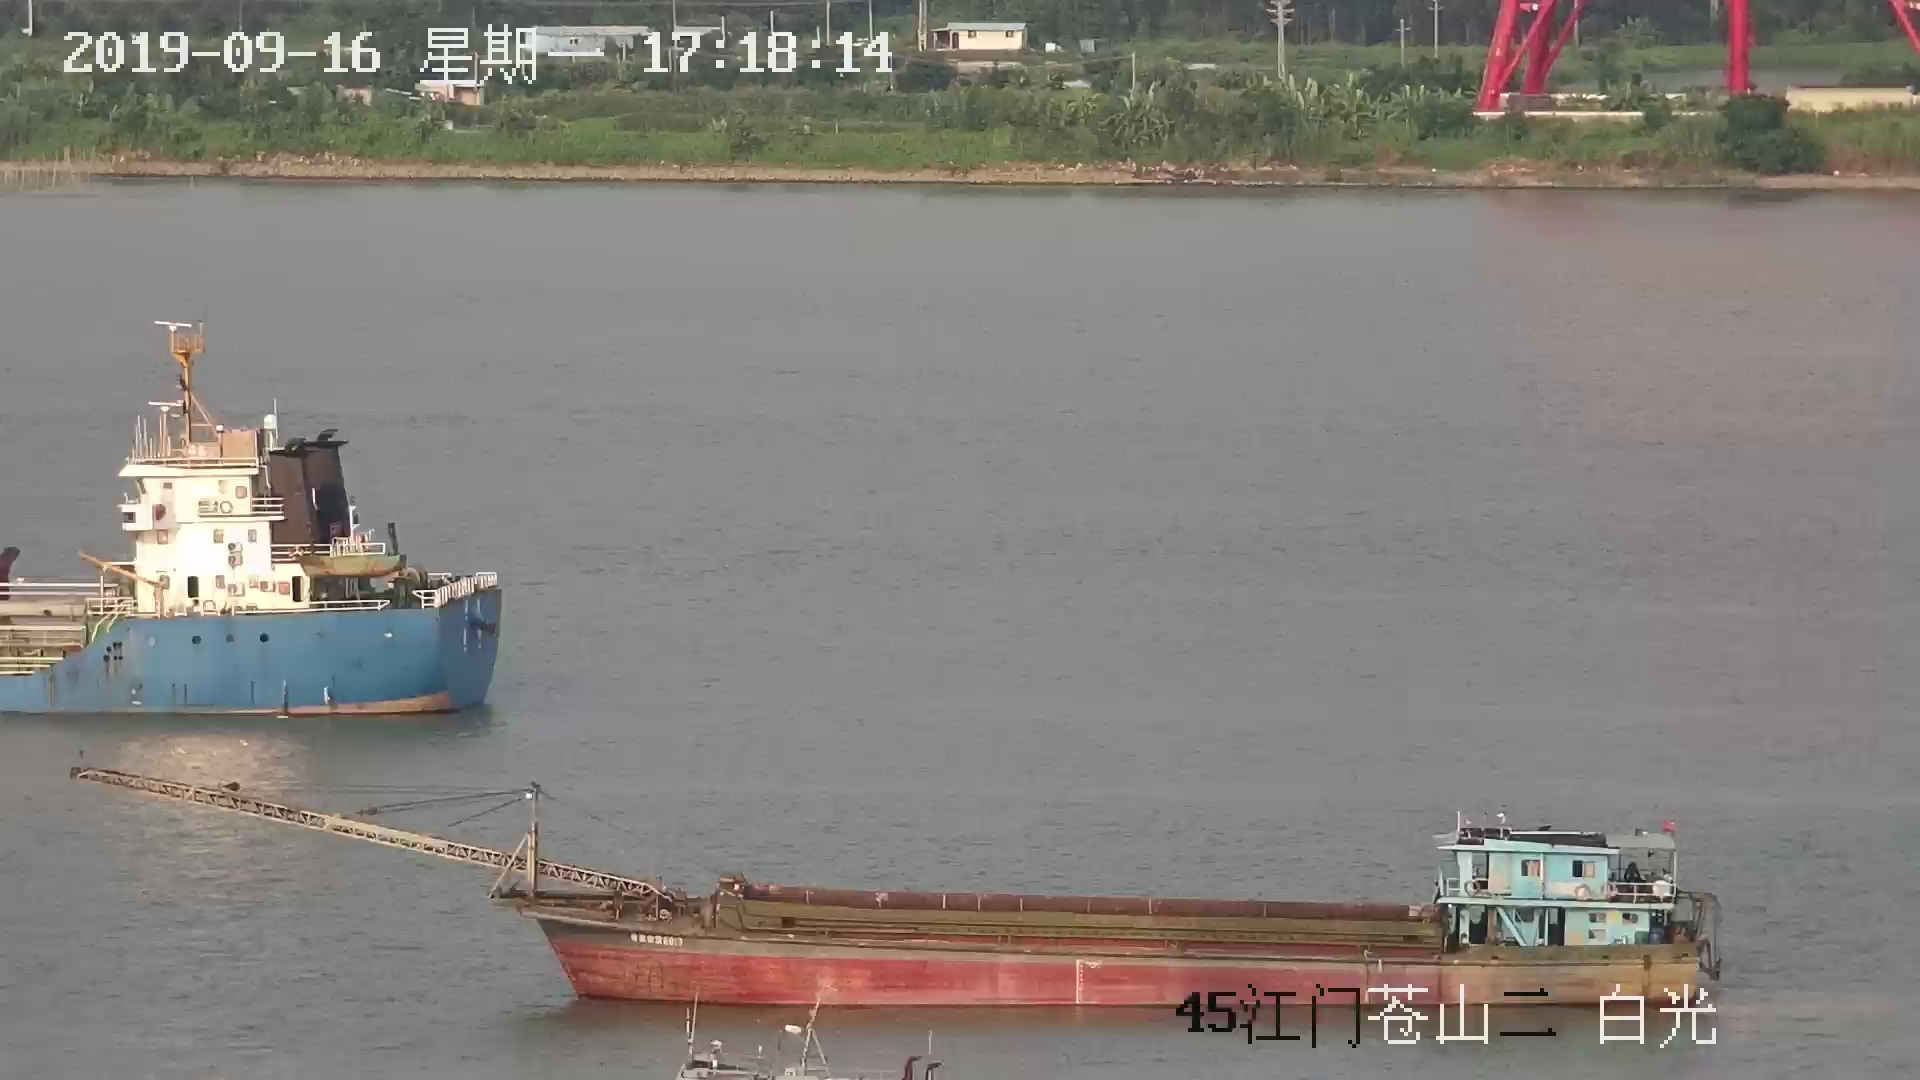ship: (83, 758, 1720, 1011), (5, 287, 506, 713)
